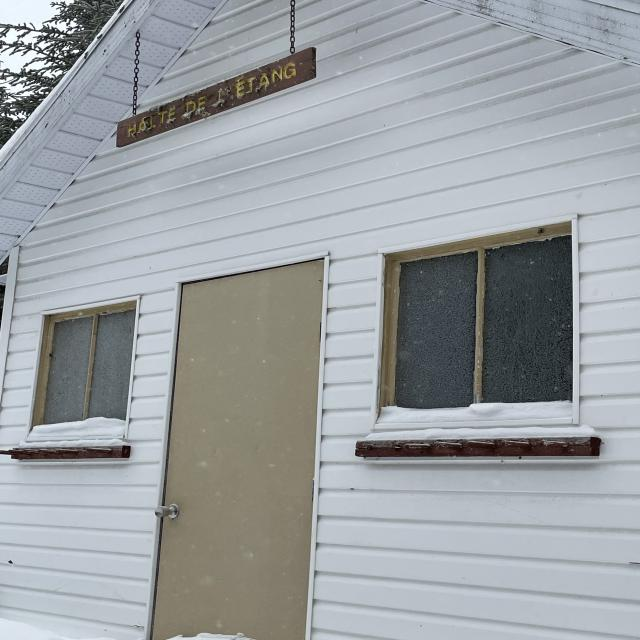door-knob: (155, 504, 180, 519)
